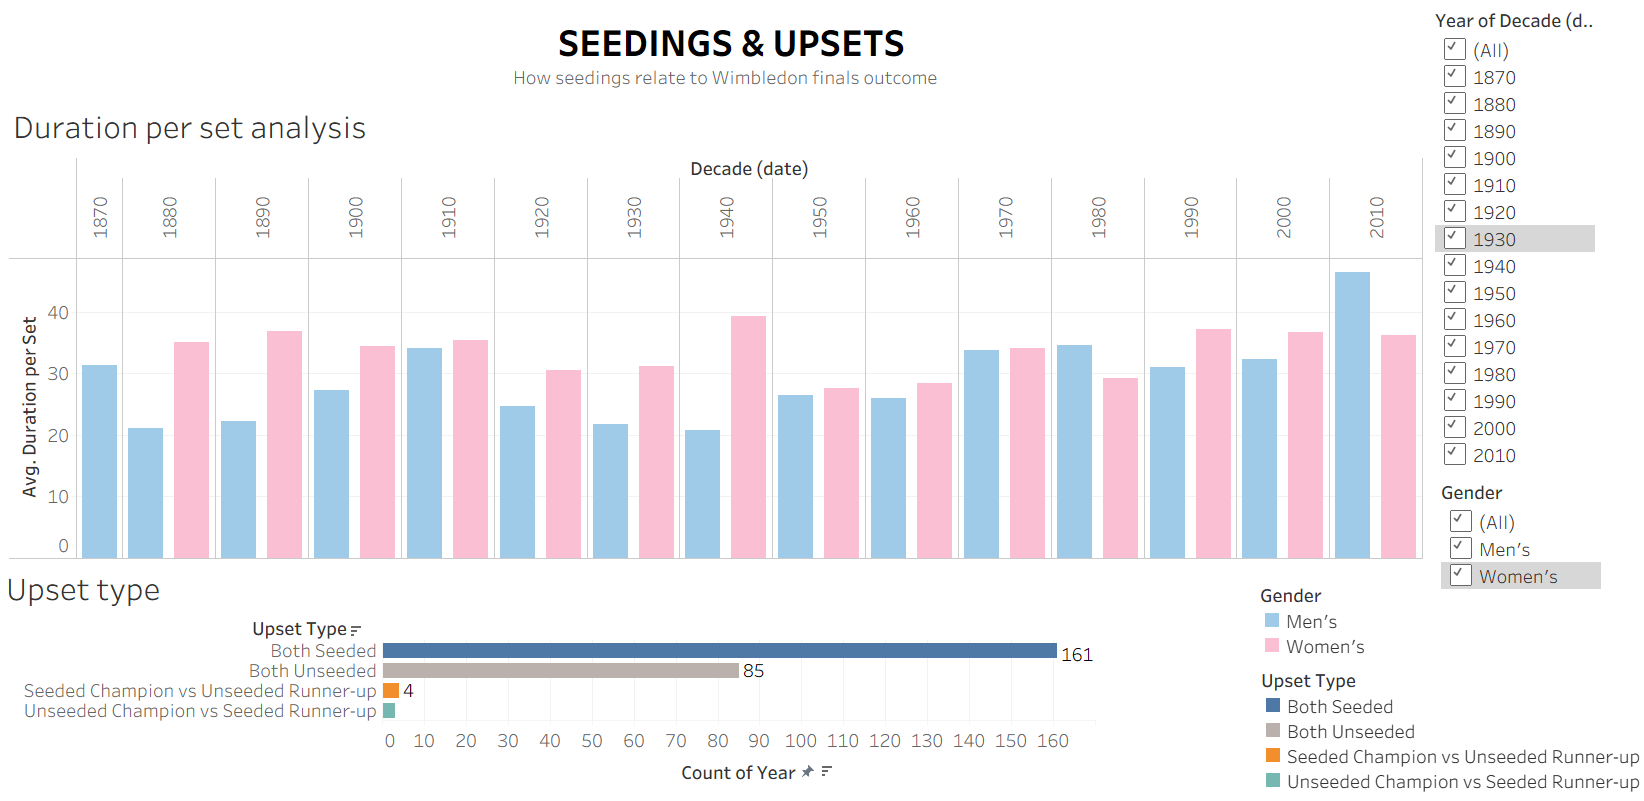

This screenshot's page, from the dashboard's own definition file:
{"tool":"tableau","page":{"name":"Dashboard 4","canvas":[1000,1000],"units":"permille","ordinal":1},"visuals":[{"type":"filter","title":"Upset type","param":"[federated.01jto3704wzyrt1ezxsug0gk7e6s].[yr:Decade (date):ok]","box":[866,8.7,96.6,575.7]},{"type":"worksheet","title":"Upset type","mark":"Automatic","rows":["Calculation_1229868895031300"],"cols":["Year"],"box":[4.2,14.9,841.3,299]},{"type":"worksheet","title":"Duration per set","mark":"Bar","rows":["Calculation_1229868895518726"],"cols":["Decade (date)","Gender"],"box":[4.8,308.9,741.1,676.2]},{"type":"filter","title":"Upset type","param":"[federated.01jto3704wzyrt1ezxsug0gk7e6s].[none:Gender:nk]","box":[869.6,594.3,96.6,140.2]},{"type":"legend","title":"Duration per set","param":"[federated.01jto3704wzyrt1ezxsug0gk7e6s].[none:Gender:nk]","box":[760.4,722.1,84.5,94.3]},{"type":"legend","title":"Upset type","param":"[federated.01jto3704wzyrt1ezxsug0gk7e6s].[none:Calculation_1229868895031300:nk]","box":[761,827.5,231.7,156.3]}]}

Visuals, with their boxes on the dashboard's canvas, which has no fixed pixel size, in thousandths of its width and height (x1, y1, x2, y2). These are canvas units, not pixel positions in the 1644x801 screenshot, which may show the page scaled, cropped or inside an application window:
"Upset type" filter: box=[866, 9, 963, 584]
"Upset type" worksheet: box=[4, 15, 846, 314]
"Duration per set" worksheet (Bar marks): box=[5, 309, 746, 985]
"Upset type" filter: box=[870, 594, 966, 734]
"Duration per set" legend: box=[760, 722, 845, 816]
"Upset type" legend: box=[761, 828, 993, 984]
